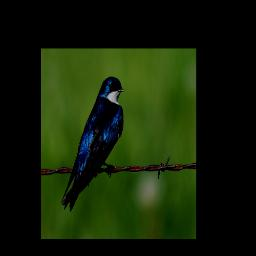Swallow: (61, 76, 125, 212)
